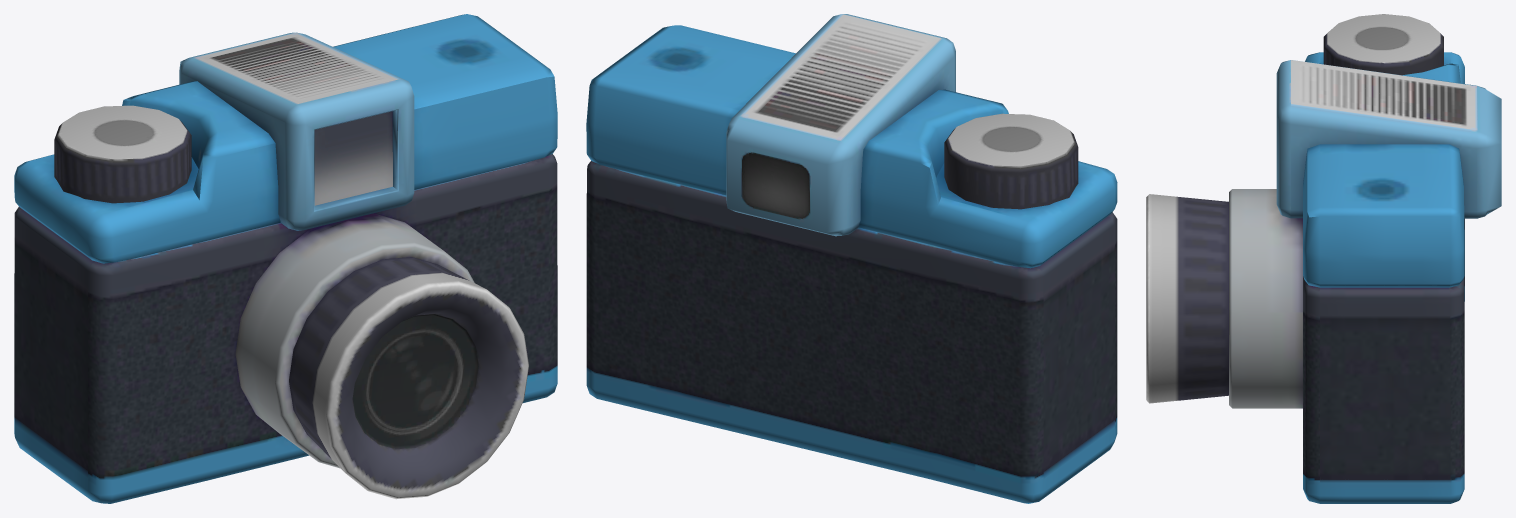
The model's file is 0-camera_blue.fbx.
The picture shows the model from 3 angles, left to right: view 1: azimuth 30°, elevation 25°; view 2: azimuth 150°, elevation 25°; view 3: azimuth 270°, elevation 25°; orthographic projection. The views are drawn at different scales.
Parts seen in each view (by area): view 1: 0-camera_blue; view 2: 0-camera_blue; view 3: 0-camera_blue.
Part boxes in pixels (x1,y1,x2,y2): 0-camera_blue: [14, 14, 557, 503]; 0-camera_blue: [586, 14, 1117, 503]; 0-camera_blue: [1146, 14, 1501, 503].
Size of the model in its own units: 90.21 by 67.86 by 66.1.
